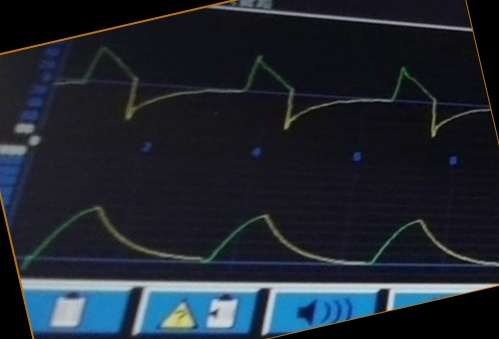Normal Flow: (58, 44, 488, 137)
Normal Volume: (19, 200, 499, 272)
